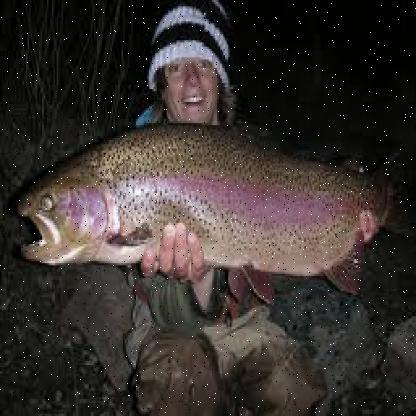fish: (11, 117, 414, 309)
